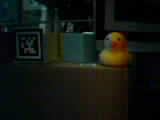duck: (90, 24, 136, 71)
